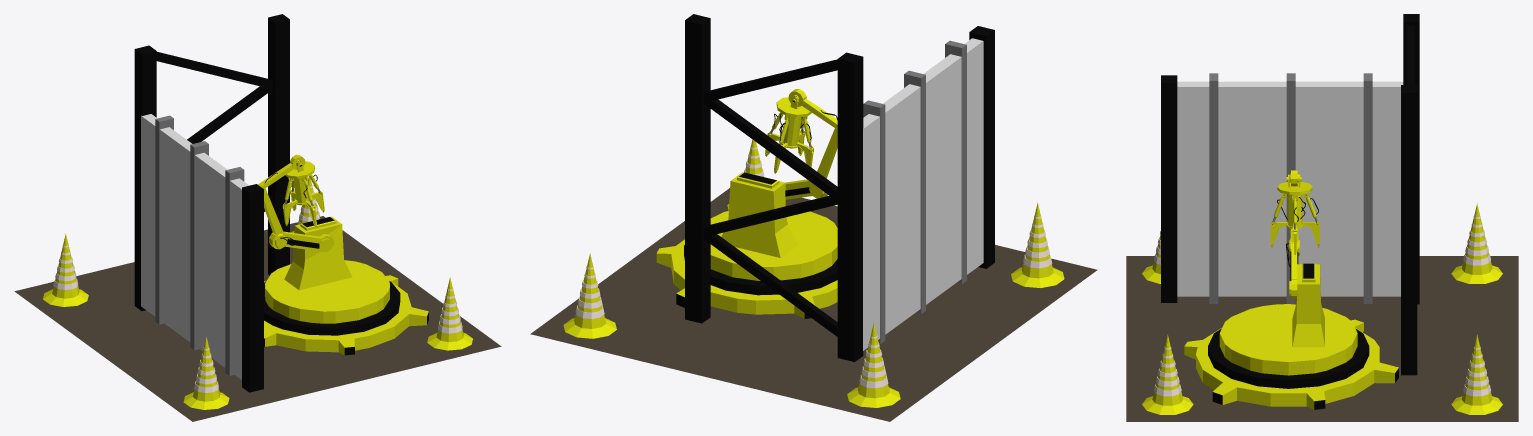
Rendered from Mesh_Build_Site.fbx.
The picture shows the model from 3 angles, left to right: view 1: azimuth 30°, elevation 25°; view 2: azimuth 150°, elevation 25°; view 3: azimuth 270°, elevation 25°; orthographic projection. The views are drawn at different scales.
Parts seen in each view (by area): view 1: Cube.046, Plane.003, Pince finale, Cones finaux; view 2: Cube.046, Plane.003, Pince finale, Cones finaux; view 3: Cube.046, Plane.003, Pince finale, Cones finaux.
Part boxes in pixels (bbox=[...]): Cube.046: bbox=[134, 14, 289, 392]; Plane.003: bbox=[14, 216, 501, 421]; Pince finale: bbox=[258, 154, 428, 355]; Cones finaux: bbox=[43, 177, 472, 409]; Cube.046: bbox=[685, 14, 994, 361]; Plane.003: bbox=[530, 188, 1097, 421]; Pince finale: bbox=[656, 89, 837, 318]; Cones finaux: bbox=[563, 139, 1064, 407]; Cube.046: bbox=[1161, 14, 1419, 375]; Plane.003: bbox=[1126, 256, 1518, 421]; Pince finale: bbox=[1184, 170, 1398, 409]; Cones finaux: bbox=[1142, 203, 1502, 414].
Size of the model in its own units: 1015 by 806 by 1015.
